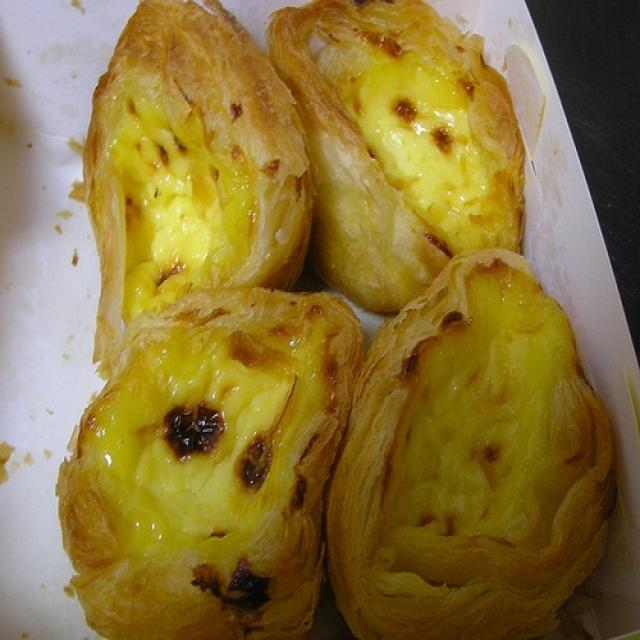炸货点心: (19, 12, 626, 618)
蛋糕甜品: (19, 12, 626, 618)
